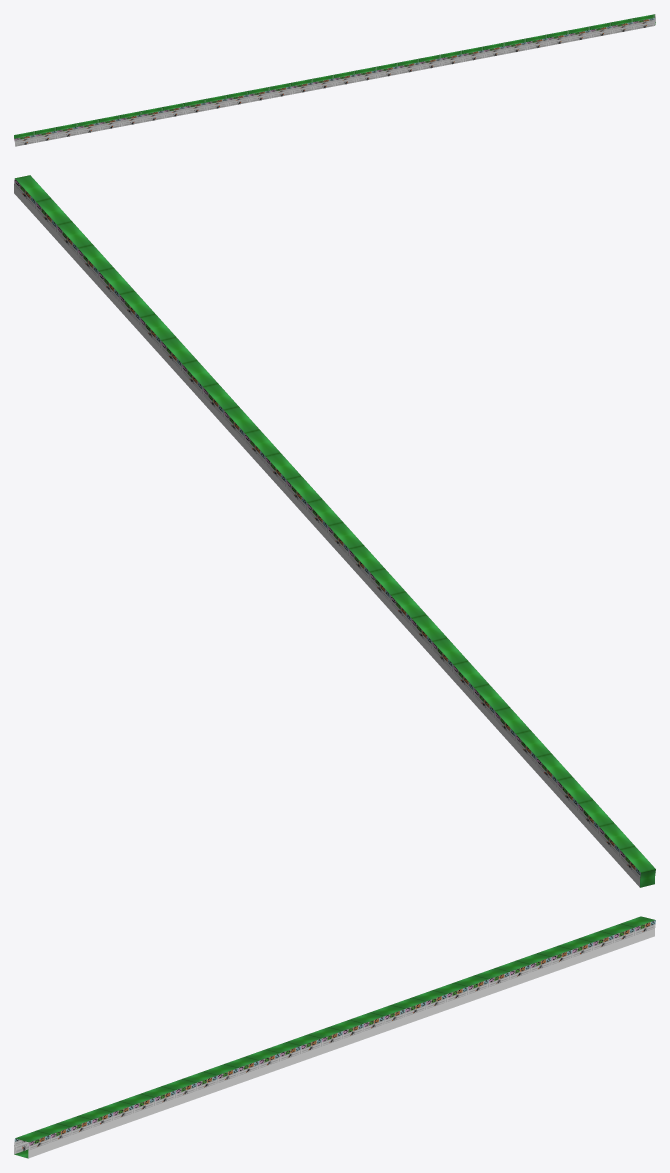
File: CourseSummer_Wall_R_17.fbx
3 views of the same model, one above another, from view 1: azimuth 30°, elevation 25°; view 2: azimuth 150°, elevation 25°; view 3: azimuth 270°, elevation 25° (orthographic). The views are drawn at different scales.
Visible parts, largest first — view 1: polySurface114; view 2: polySurface114; view 3: polySurface114.
Part boxes in pixels (bbox=[...]): polySurface114: bbox=[14, 14, 655, 146]; polySurface114: bbox=[14, 175, 655, 887]; polySurface114: bbox=[14, 916, 655, 1158].
Bounding box in the file's own units: 126 × 31.98 × 73.83.
1 material, 1 textured.
